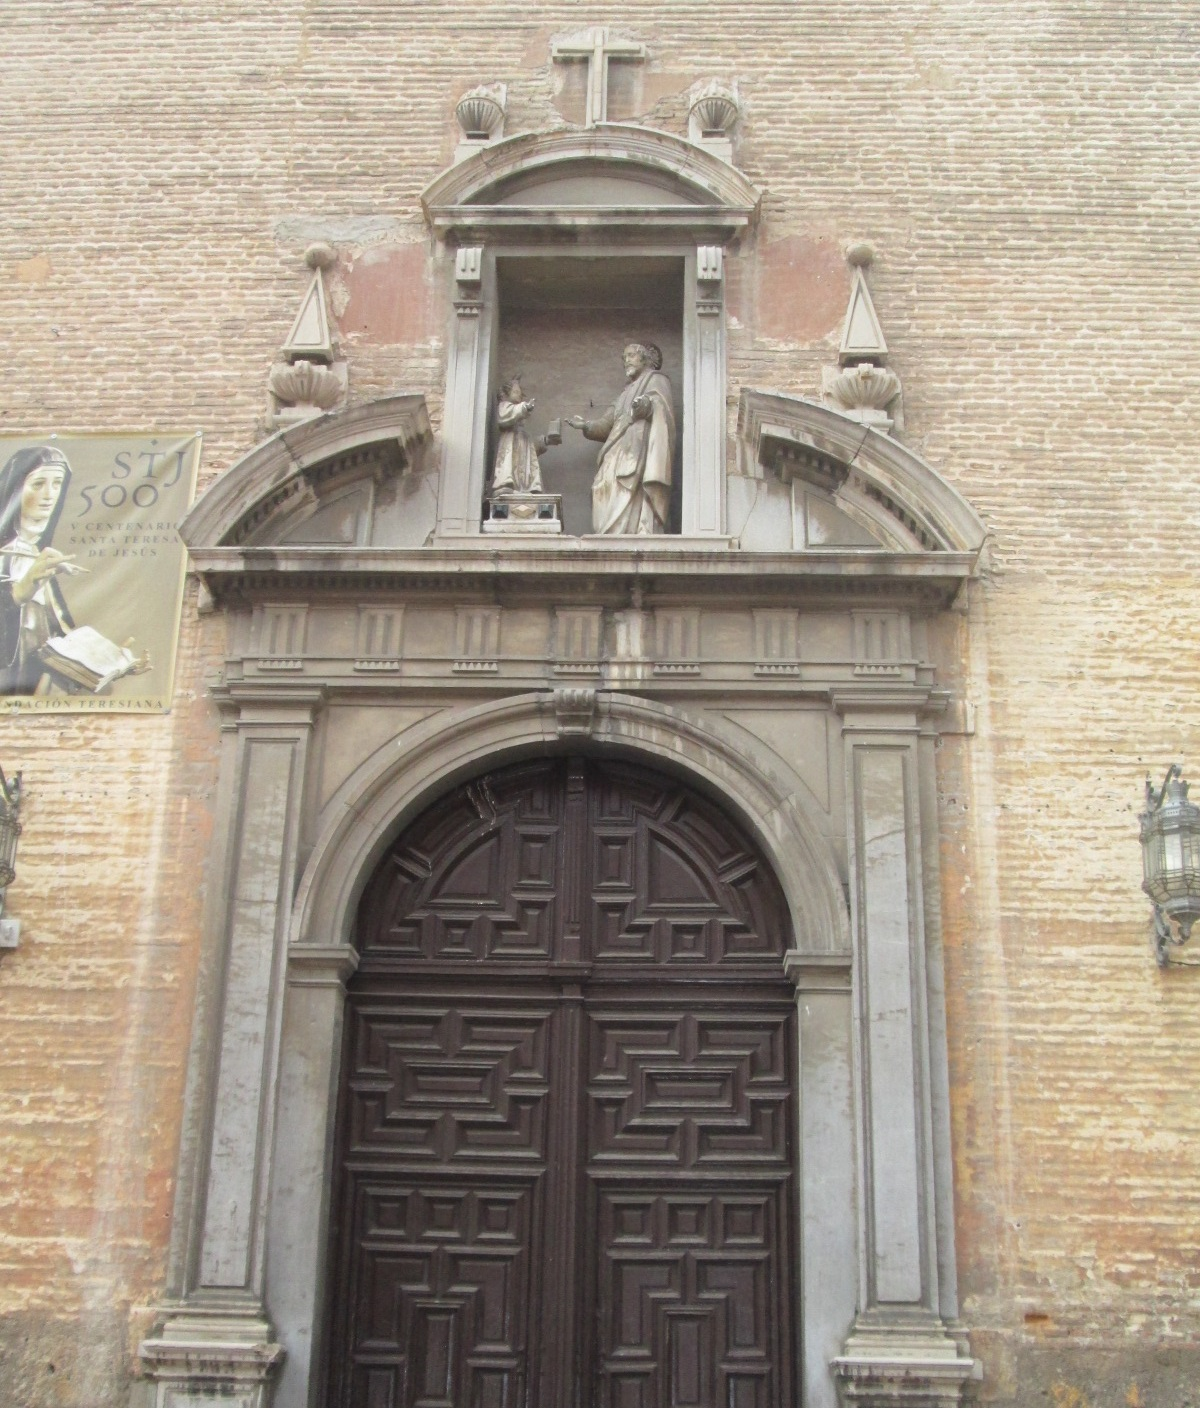arco-medio-punto: (321, 716, 829, 1031)
fronton-curvo: (411, 117, 774, 239)
fronton-partido: (171, 382, 998, 609)
vano-adintelado: (445, 234, 740, 546)
